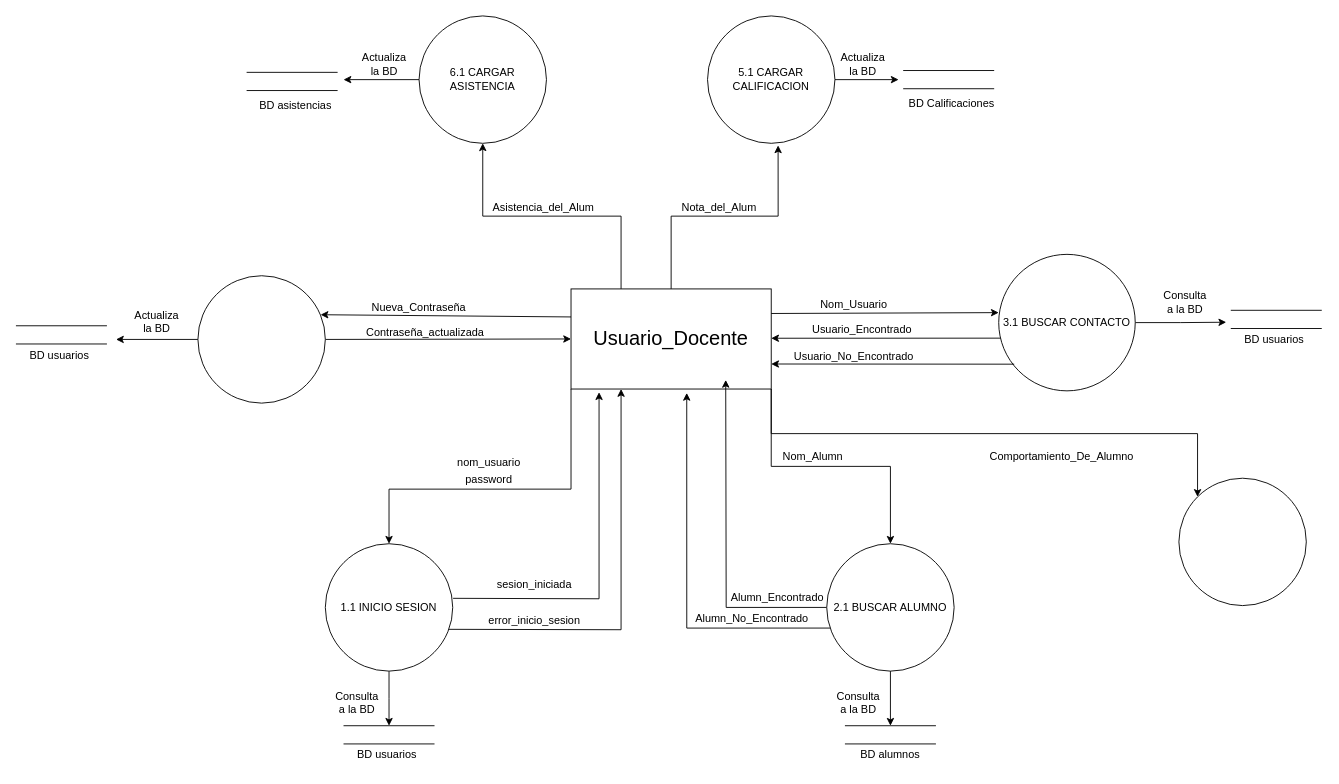
The diagram is 1339 pixels wide and 784 high, and some of its shapes have lost their labels. Each missing label, with the centre of its shape:
"4.1 CAMBIAR CONTRASEÑA" belongs at (261,339).
"7.1 REGISTRAR COMPORTAMIENTO" belongs at (1242,541).
